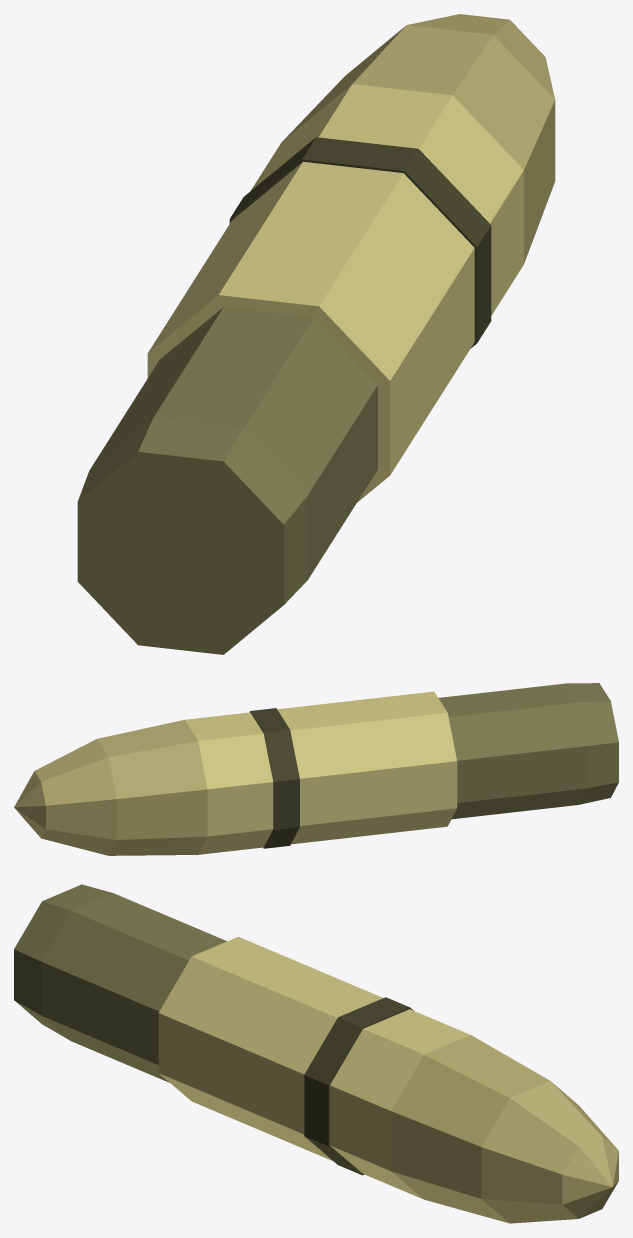
File: ce_ammo2_type63_he_a.obj
3 views of the same model, one above another, from view 1: azimuth 30°, elevation 25°; view 2: azimuth 150°, elevation 25°; view 3: azimuth 270°, elevation 25° (orthographic). The views are drawn at different scales.
Visible parts, largest first — view 1: ce_ammo2_type63_he_a_2, ce_ammo2_type63_he_a_0, ce_ammo2_type63_he_a_1, ce_ammo2_type63_he_a_4, ce_ammo2_type63_he_a_5, ce_ammo2_type63_he_a_3, ce_ammo2_type63_he_a_6; view 2: ce_ammo2_type63_he_a_2, ce_ammo2_type63_he_a_1, ce_ammo2_type63_he_a_5, ce_ammo2_type63_he_a_4, ce_ammo2_type63_he_a_6, ce_ammo2_type63_he_a_0, ce_ammo2_type63_he_a_3, ce_ammo2_type63_he_a_7; view 3: ce_ammo2_type63_he_a_2, ce_ammo2_type63_he_a_1, ce_ammo2_type63_he_a_5, ce_ammo2_type63_he_a_4, ce_ammo2_type63_he_a_6, ce_ammo2_type63_he_a_3, ce_ammo2_type63_he_a_0, ce_ammo2_type63_he_a_7.
Boxes of the visible parts, left/top/right/bottom form: ce_ammo2_type63_he_a_2: left=147, top=161, right=474, bottom=502; ce_ammo2_type63_he_a_0: left=77, top=418, right=307, bottom=654; ce_ammo2_type63_he_a_1: left=89, top=307, right=377, bottom=579; ce_ammo2_type63_he_a_4: left=251, top=84, right=523, bottom=315; ce_ammo2_type63_he_a_5: left=281, top=25, right=555, bottom=263; ce_ammo2_type63_he_a_3: left=229, top=137, right=491, bottom=347; ce_ammo2_type63_he_a_6: left=407, top=14, right=554, bottom=98; ce_ammo2_type63_he_a_2: left=277, top=691, right=457, bottom=844; ce_ammo2_type63_he_a_1: left=438, top=683, right=586, bottom=819; ce_ammo2_type63_he_a_5: left=97, top=720, right=207, bottom=855; ce_ammo2_type63_he_a_4: left=185, top=712, right=273, bottom=854; ce_ammo2_type63_he_a_6: left=34, top=739, right=116, bottom=855; ce_ammo2_type63_he_a_0: left=566, top=683, right=618, bottom=804; ce_ammo2_type63_he_a_3: left=250, top=708, right=299, bottom=848; ce_ammo2_type63_he_a_7: left=14, top=771, right=45, bottom=837; ce_ammo2_type63_he_a_2: left=158, top=936, right=382, bottom=1160; ce_ammo2_type63_he_a_1: left=41, top=893, right=226, bottom=1082; ce_ammo2_type63_he_a_5: left=391, top=1035, right=549, bottom=1223; ce_ammo2_type63_he_a_4: left=329, top=1009, right=470, bottom=1199; ce_ammo2_type63_he_a_6: left=481, top=1081, right=617, bottom=1223; ce_ammo2_type63_he_a_3: left=304, top=997, right=413, bottom=1175; ce_ammo2_type63_he_a_0: left=14, top=884, right=112, bottom=1040; ce_ammo2_type63_he_a_7: left=562, top=1136, right=618, bottom=1218.
Bounding box in the file's own units: 0.699 × 0.1884 × 0.699.
